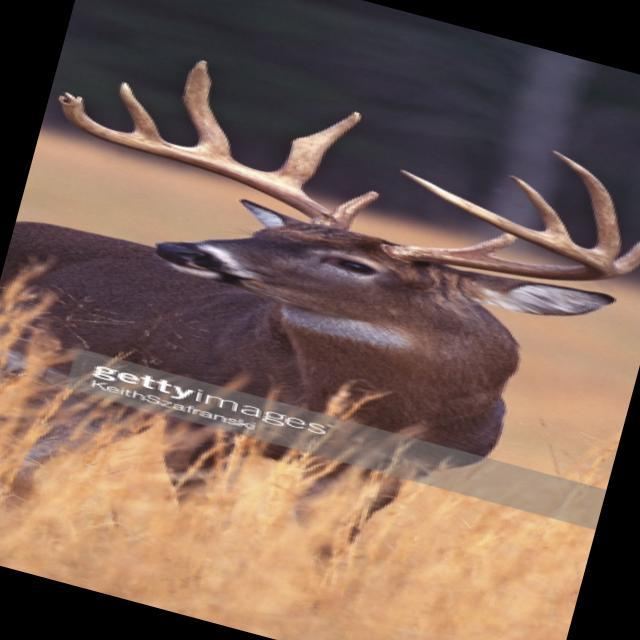L-F: (383, 169, 619, 281)
L-G1: (454, 232, 517, 256)
L-G2: (616, 239, 640, 277)
L-G3: (550, 150, 622, 264)
L-G4: (509, 174, 575, 244)
R-G1: (330, 190, 380, 223)
R-G2: (267, 111, 362, 192)
R-G3: (181, 60, 241, 165)
R-G4: (117, 81, 166, 144)
